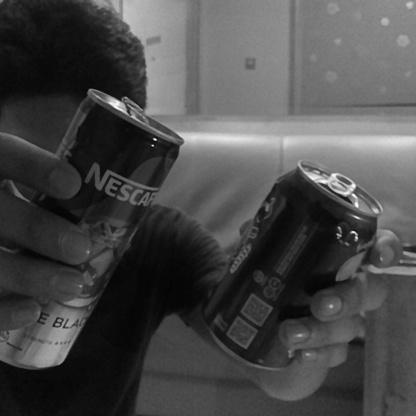alumunium_can: (0, 86, 184, 371), (204, 160, 378, 372)
